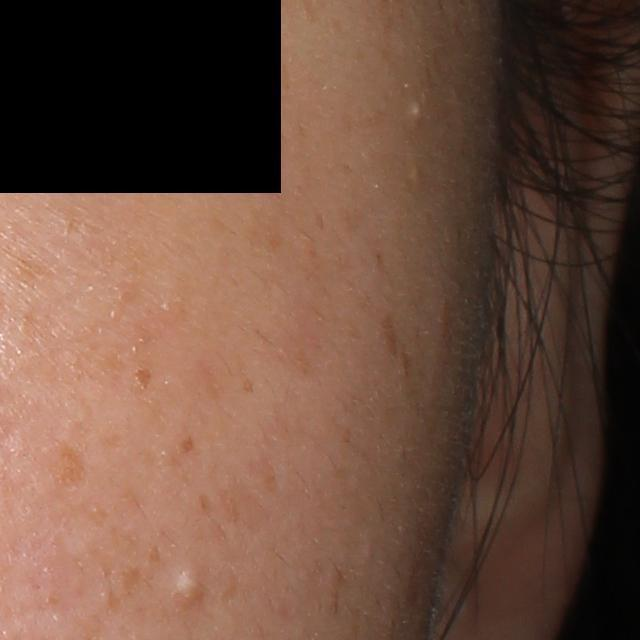melasma: (49, 281, 232, 474), (371, 311, 419, 382), (46, 438, 106, 480)
